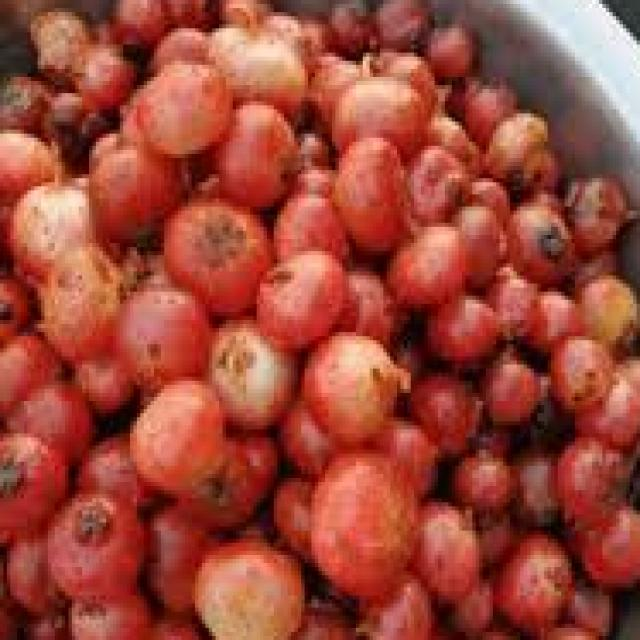inorganic: (11, 14, 626, 631)
